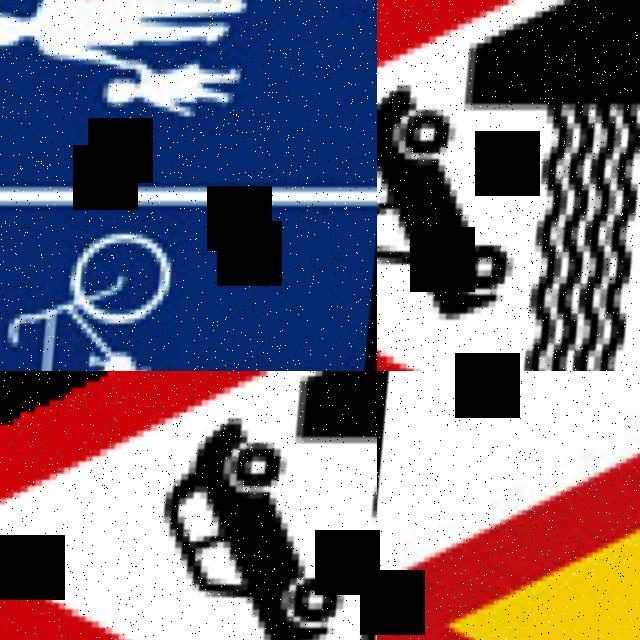154: (377, 371, 640, 640)
99: (0, 0, 377, 371)
Unprotected quay: (0, 371, 377, 640), (377, 0, 640, 371)
